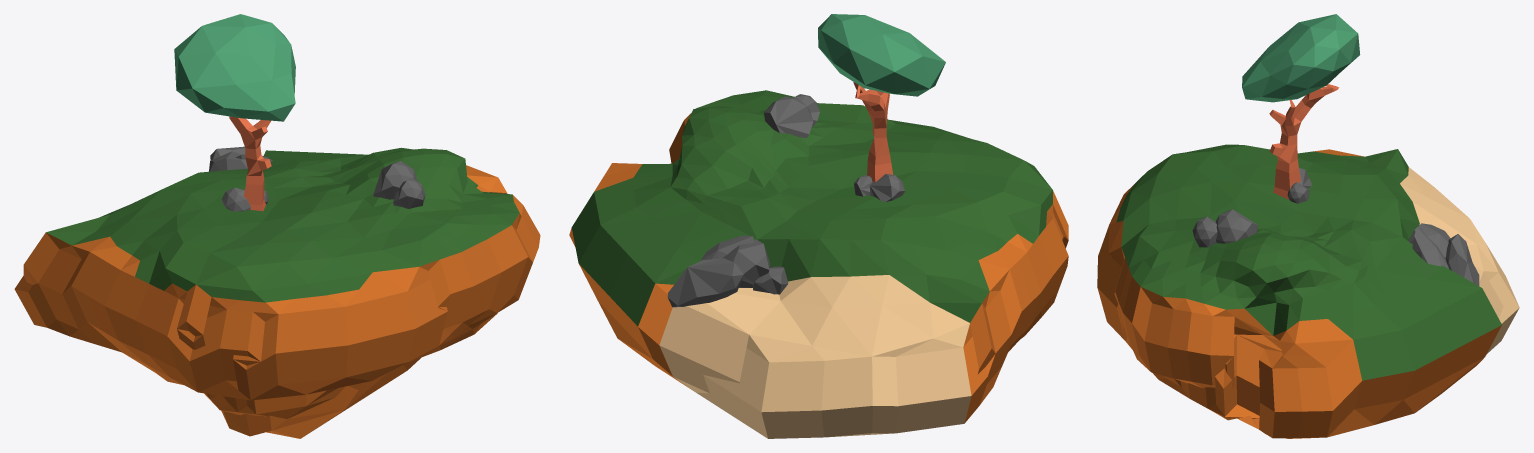
Rendered from Isla1.fbx.
The picture shows the model from 3 angles, left to right: view 1: azimuth 30°, elevation 25°; view 2: azimuth 150°, elevation 25°; view 3: azimuth 270°, elevation 25°; orthographic projection. The views are drawn at different scales.
Parts seen in each view (by area): view 1: Tierra.005; view 2: Tierra.005; view 3: Tierra.005.
Part boxes in pixels (x1,y1,x2,y2): Tierra.005: [14, 14, 540, 438]; Tierra.005: [569, 14, 1068, 438]; Tierra.005: [1097, 14, 1519, 438].
Size of the model in its own units: 1422 by 1127 by 1216.
